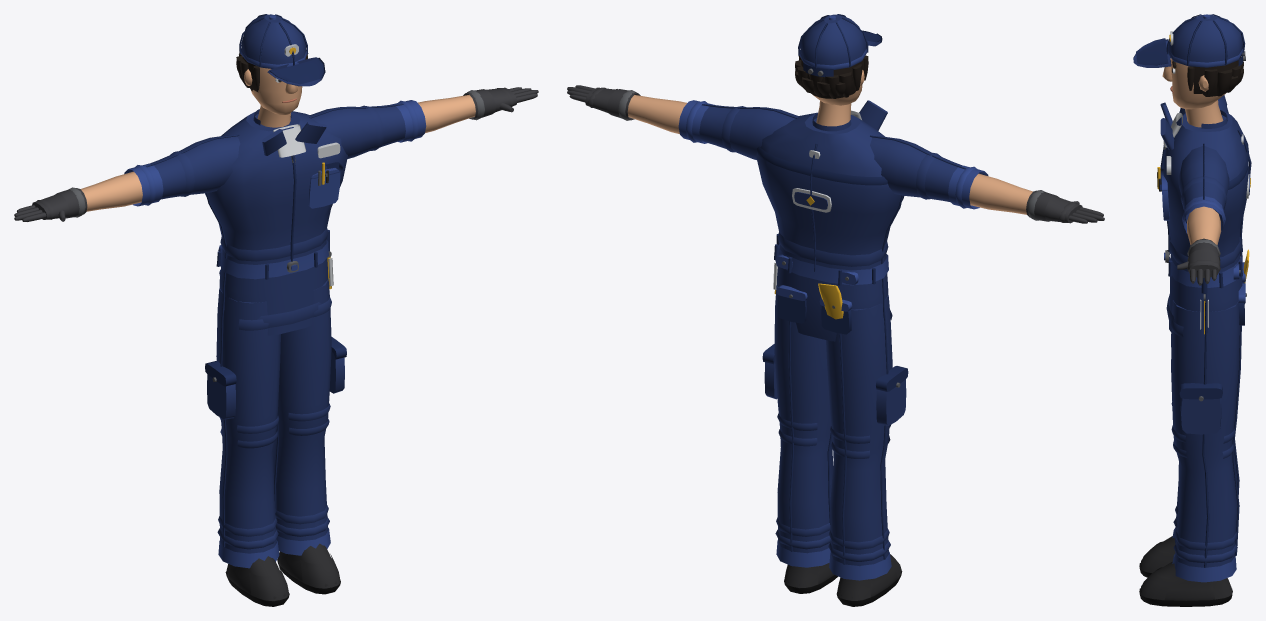
File: PERSONAJE.fbx
3 views of the same model, side by side, from view 1: azimuth 30°, elevation 25°; view 2: azimuth 150°, elevation 25°; view 3: azimuth 270°, elevation 25° (orthographic). The views are drawn at different scales.
Parts seen in each view (by area): view 1: Conserje; view 2: Conserje; view 3: Conserje.
Part boxes in pixels (x1=…): Conserje: x1=14, y1=14, x2=538, y2=606; Conserje: x1=567, y1=14, x2=1104, y2=606; Conserje: x1=1133, y1=14, x2=1251, y2=606.
Size of the model in its own units: 176 by 180 by 33.79.
